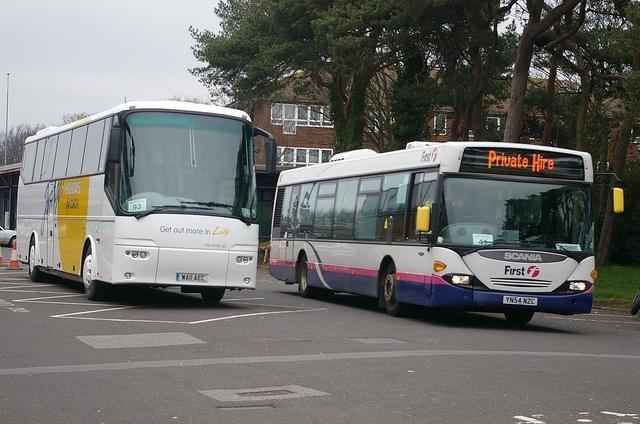bus: (266, 140, 626, 328), (18, 104, 257, 309)
car: (0, 227, 16, 248)
